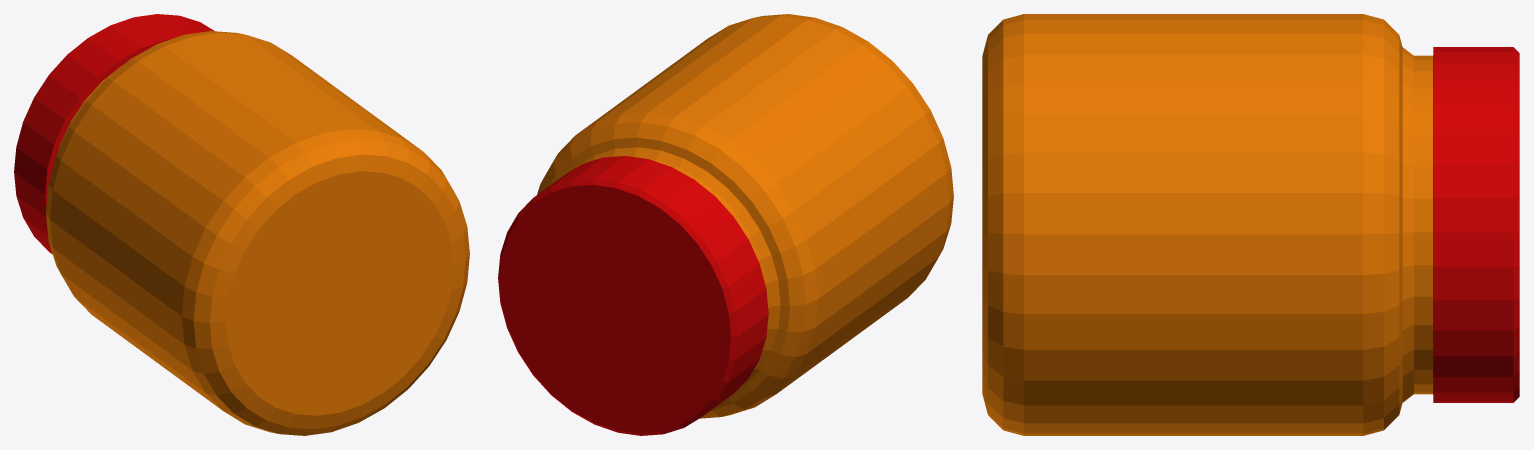
Rendered from Protein.fbx.
3 renders of one model, left to right at view 1: azimuth 30°, elevation 25°; view 2: azimuth 150°, elevation 25°; view 3: azimuth 270°, elevation 25°, orthographic. The views are drawn at different scales.
Visible parts, largest first — view 1: Cylinder; view 2: Cylinder; view 3: Cylinder.
Boxes of the visible parts, x1,y1,x2,y2 form: Cylinder: [14, 14, 469, 435]; Cylinder: [498, 14, 953, 435]; Cylinder: [982, 14, 1519, 435].
Bounding box in the file's own units: 23.58 × 23.58 × 29.98.
